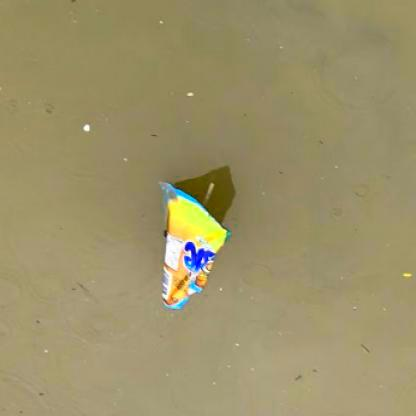Trash: (152, 171, 238, 314)
